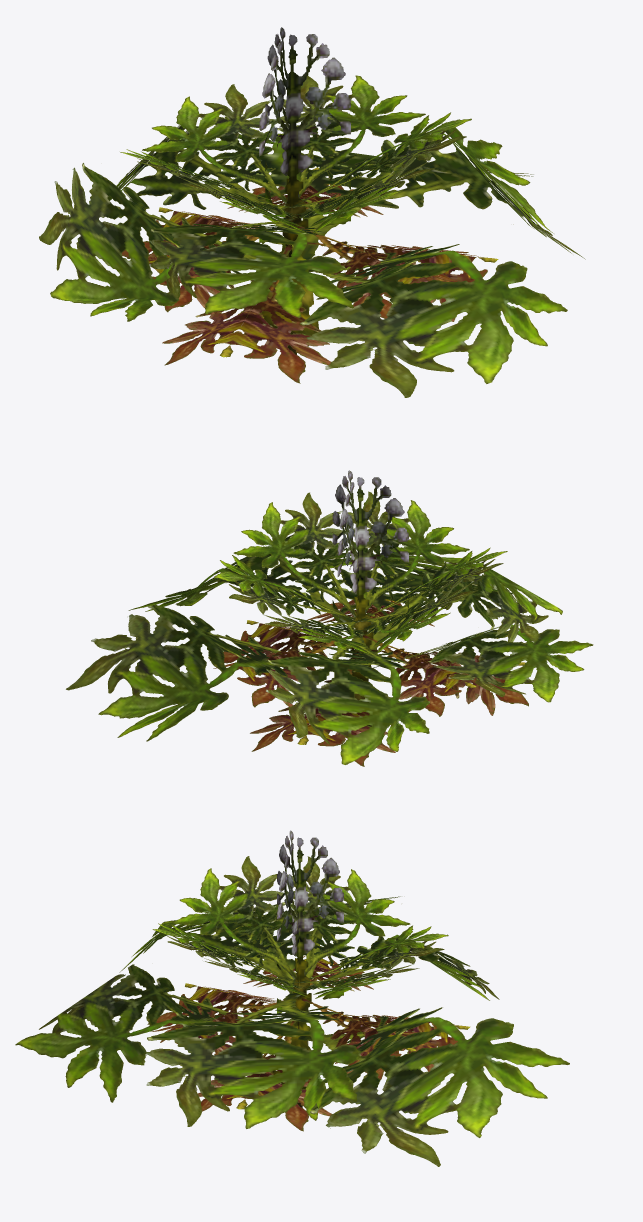
Rendered from arathiplant03.glb.
The picture shows the model from 3 angles, top to bottom: view 1: azimuth 30°, elevation 25°; view 2: azimuth 150°, elevation 25°; view 3: azimuth 270°, elevation 25°; orthographic projection. The views are drawn at different scales.
Bounding box in the file's own units: 2.98 × 1.64 × 3.14.
1 material, 1 textured.
